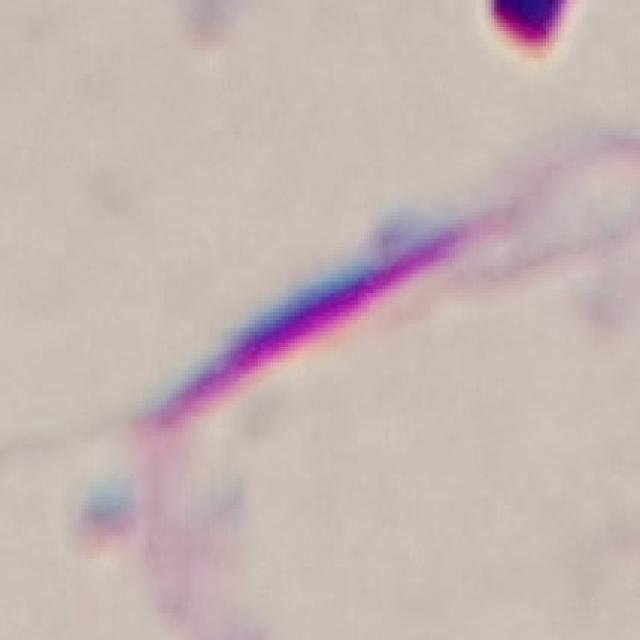non-sperm: (115, 170, 549, 463)
